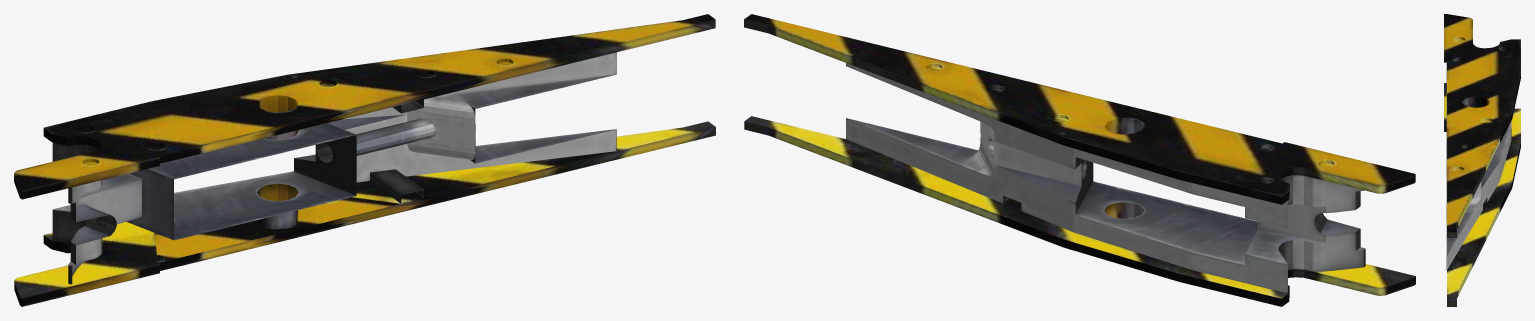
Rendered from croc.fbx.
The picture shows the model from 3 angles, left to right: view 1: azimuth 30°, elevation 25°; view 2: azimuth 150°, elevation 25°; view 3: azimuth 270°, elevation 25°; orthographic projection. The views are drawn at different scales.
Visible parts, largest first — view 1: ShapeIndexedFaceSet; view 2: ShapeIndexedFaceSet; view 3: ShapeIndexedFaceSet.
Part boxes in pixels (bbox=[...]): ShapeIndexedFaceSet: bbox=[14, 14, 715, 306]; ShapeIndexedFaceSet: bbox=[744, 14, 1415, 306]; ShapeIndexedFaceSet: bbox=[1444, 14, 1520, 306].
Size of the model in its own units: 0.8502 by 0.1353 by 0.1262.
